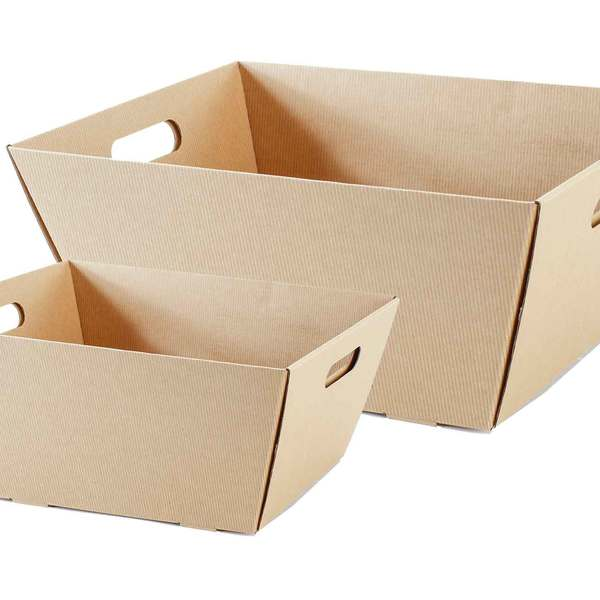Rec_Paper: (1, 17, 598, 432), (1, 236, 411, 554)
